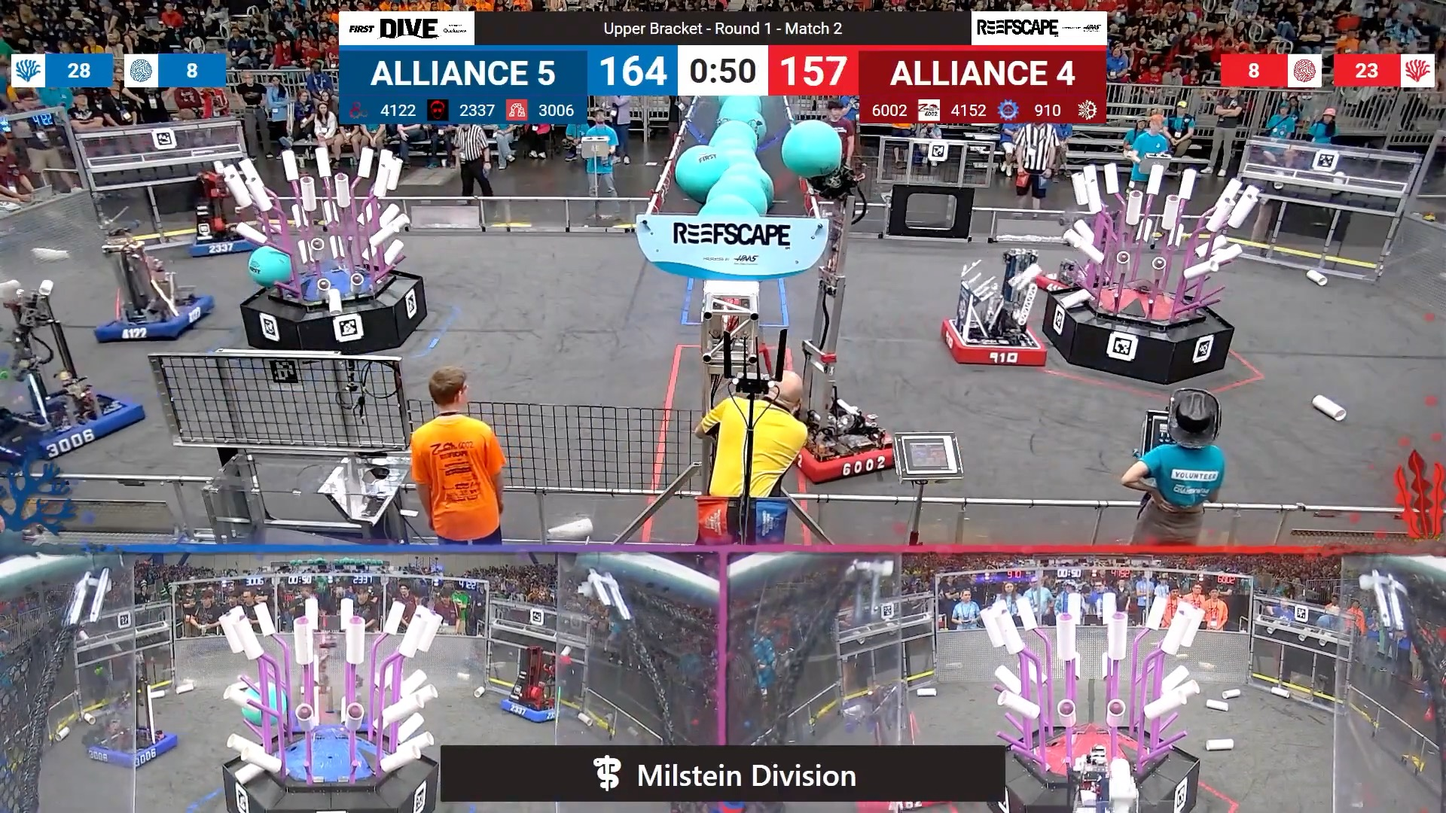bumpers: (0, 388, 152, 467), (792, 419, 906, 487), (96, 292, 222, 347), (935, 315, 1052, 373), (82, 724, 185, 774), (179, 227, 275, 260), (493, 693, 569, 727)
